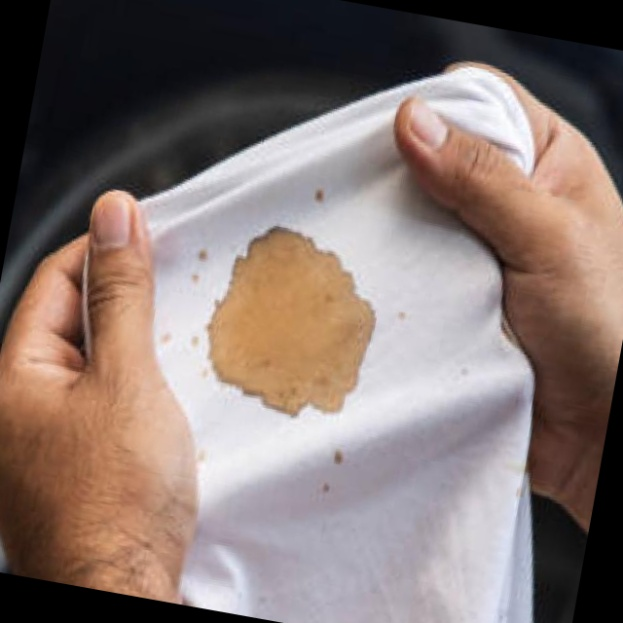coffee: (191, 213, 391, 429)
